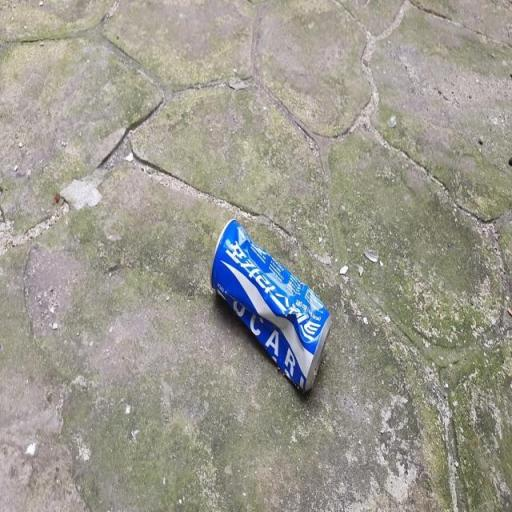metal: (203, 204, 340, 410)
